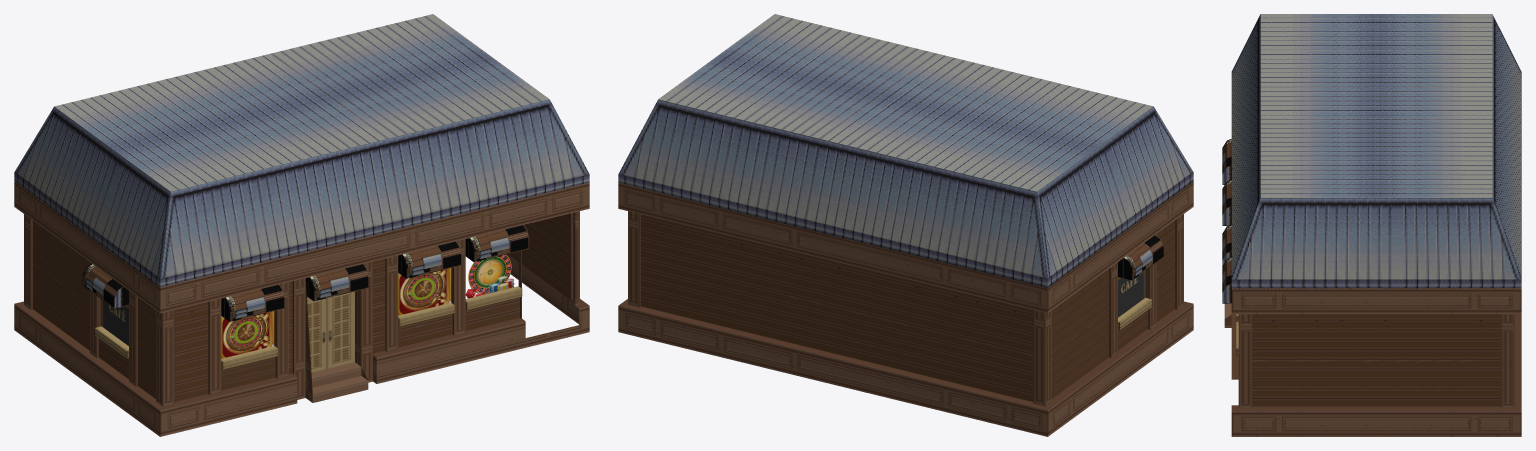
3 renders of one model, left to right at view 1: azimuth 30°, elevation 25°; view 2: azimuth 150°, elevation 25°; view 3: azimuth 270°, elevation 25°, orthographic.
Visible parts, largest first — view 1: Cafe:cafe1; view 2: Cafe:cafe1; view 3: Cafe:cafe1.
Boxes of the visible parts, x1,y1,x2,y2 form: Cafe:cafe1: [14, 14, 589, 436]; Cafe:cafe1: [618, 14, 1193, 436]; Cafe:cafe1: [1222, 14, 1521, 436].
Size of the model in its own units: 121 by 60.28 by 72.02.
